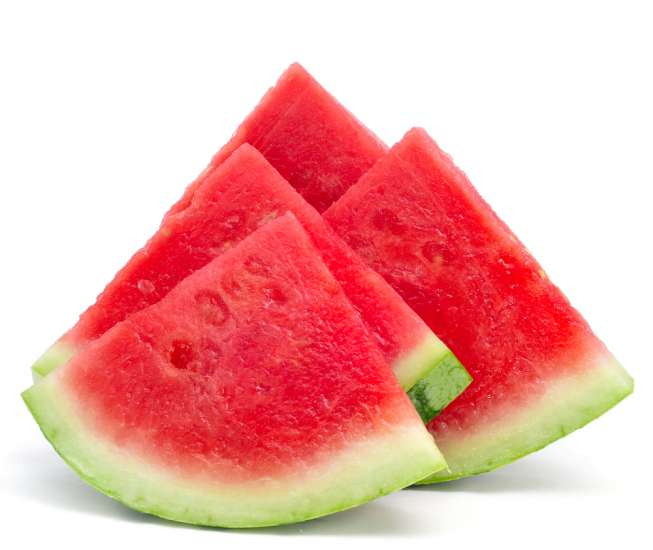Semangka: (89, 228, 367, 548), (373, 141, 568, 453)
